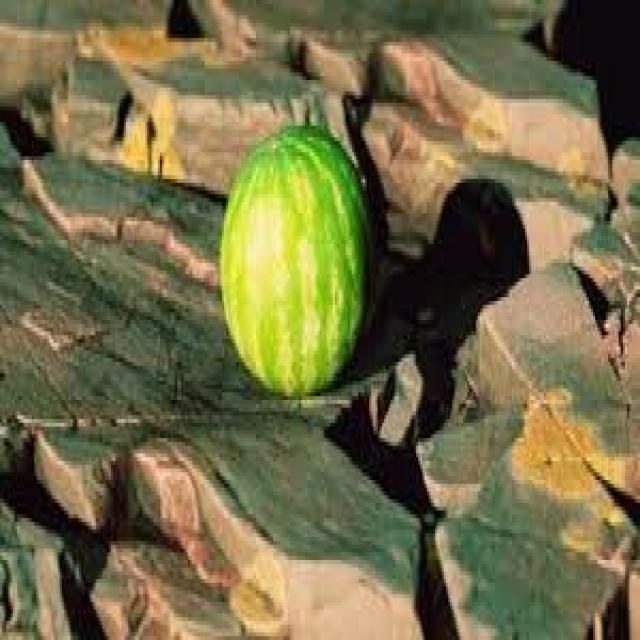watermelon: (218, 122, 373, 396)
